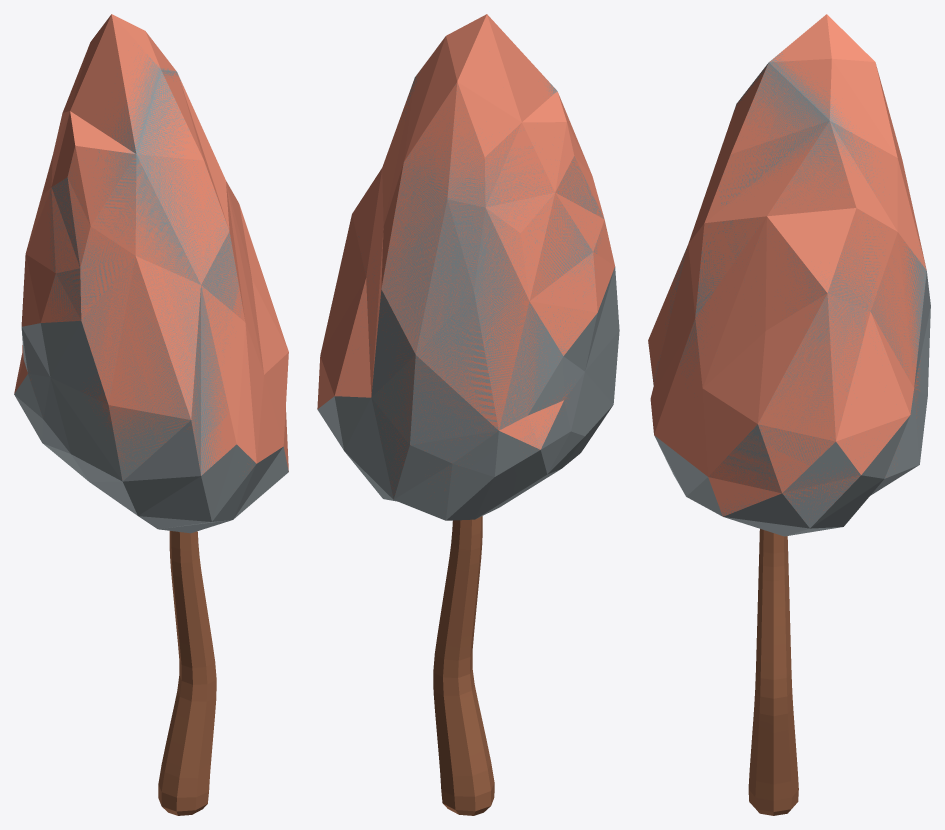
File: arbolPino.glb
3 renders of one model, left to right at view 1: azimuth 30°, elevation 25°; view 2: azimuth 150°, elevation 25°; view 3: azimuth 270°, elevation 25°, orthographic. The views are drawn at different scales.
Visible parts, largest first — view 1: Lowpolytree_02_green.002; view 2: Lowpolytree_02_green.002; view 3: Lowpolytree_02_green.002.
Boxes of the visible parts, box(x1,y1,x2,y2) form: Lowpolytree_02_green.002: box(14, 14, 288, 815); Lowpolytree_02_green.002: box(317, 14, 619, 815); Lowpolytree_02_green.002: box(648, 14, 930, 815).
Size of the model in its own units: 2.85 by 8.87 by 2.93.
1 material, 1 textured.
